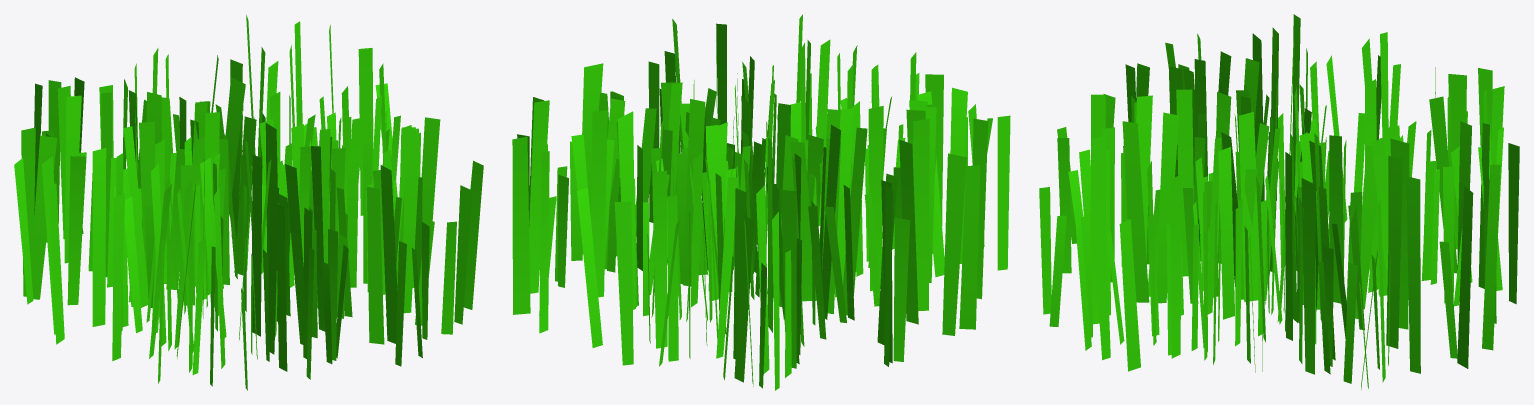
Rendered from Grass_For_Games.fbx.
3 renders of one model, left to right at view 1: azimuth 30°, elevation 25°; view 2: azimuth 150°, elevation 25°; view 3: azimuth 270°, elevation 25°, orthographic. The views are drawn at different scales.
Visible parts, largest first — view 1: Wheat_Grass_High_Dense; view 2: Wheat_Grass_High_Dense; view 3: Wheat_Grass_High_Dense.
Part boxes in pixels (x1,y1,x2,y2): Wheat_Grass_High_Dense: (14,14,483,390); Wheat_Grass_High_Dense: (512,14,1010,390); Wheat_Grass_High_Dense: (1039,14,1519,389).
Size of the model in its own units: 48.33 by 21.7 by 49.12.
